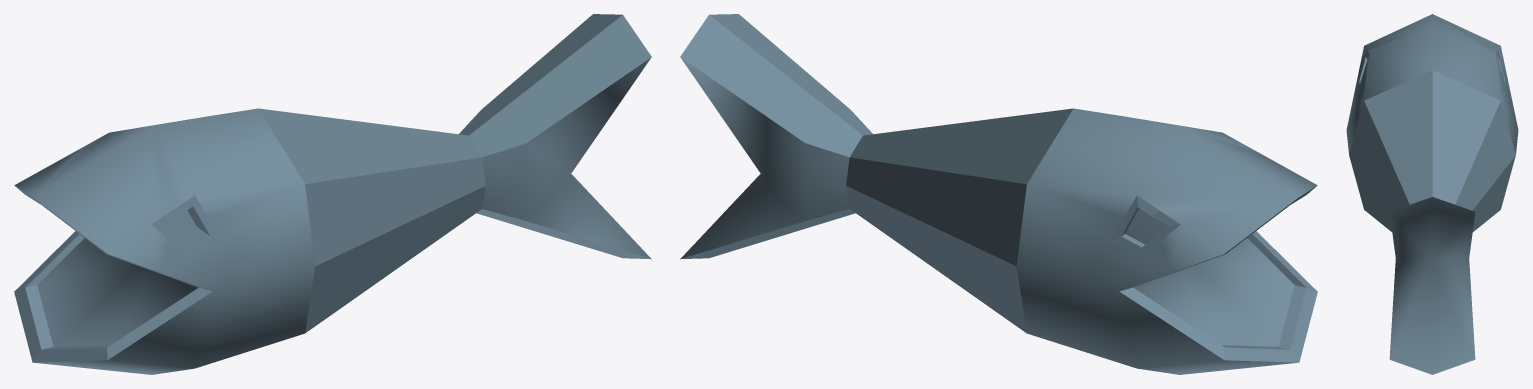
The model's file is fish.glb.
3 views of the same model, side by side, from view 1: azimuth 30°, elevation 25°; view 2: azimuth 150°, elevation 25°; view 3: azimuth 270°, elevation 25° (orthographic). The views are drawn at different scales.
Parts seen in each view (by area): view 1: Box001; view 2: Box001; view 3: Box001.
Boxes of the visible parts, left/top/right/bottom form: Box001: left=14, top=14, right=651, bottom=374; Box001: left=680, top=14, right=1317, bottom=374; Box001: left=1346, top=14, right=1518, bottom=374.
Bounding box in the file's own units: 0.4612 × 0.1857 × 0.1591.
